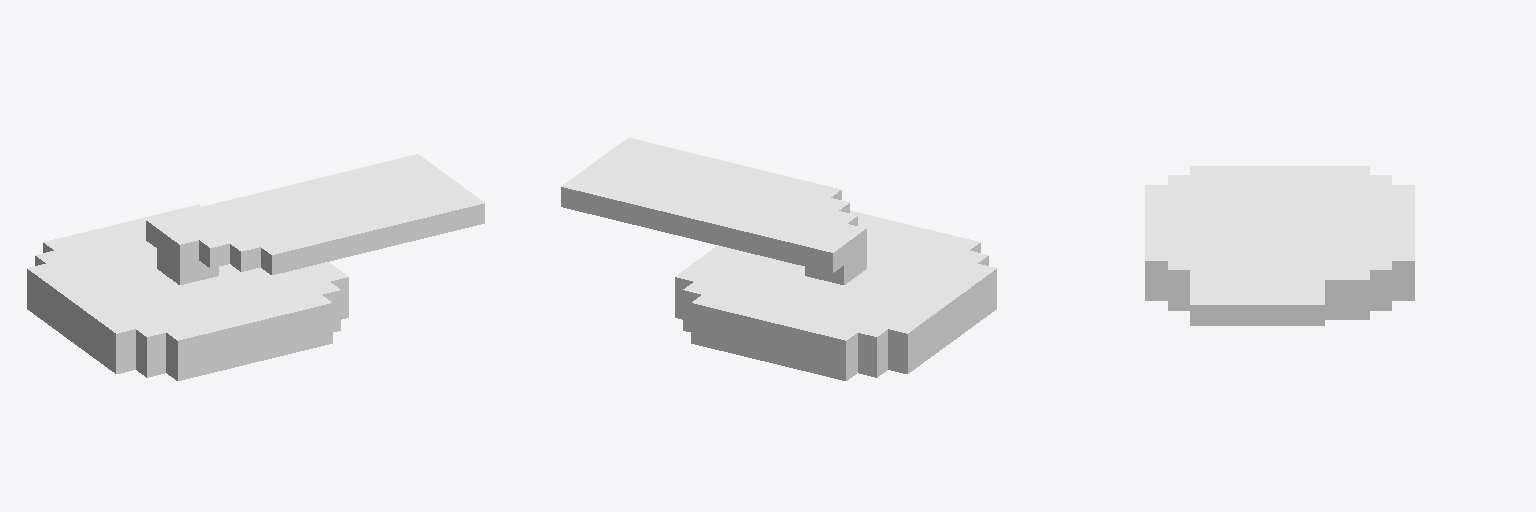
File: WingsPilderR.obj
3 renders of one model, left to right at view 1: azimuth 30°, elevation 25°; view 2: azimuth 150°, elevation 25°; view 3: azimuth 270°, elevation 25°, orthographic.
Parts seen in each view (by area): view 1: WingsPilderR; view 2: WingsPilderR; view 3: WingsPilderR.
Part boxes in pixels (bbox=[...]): WingsPilderR: bbox=[27, 154, 484, 380]; WingsPilderR: bbox=[561, 138, 996, 380]; WingsPilderR: bbox=[1145, 166, 1414, 325].
Bounding box in the file's own units: 19 × 4 × 12.